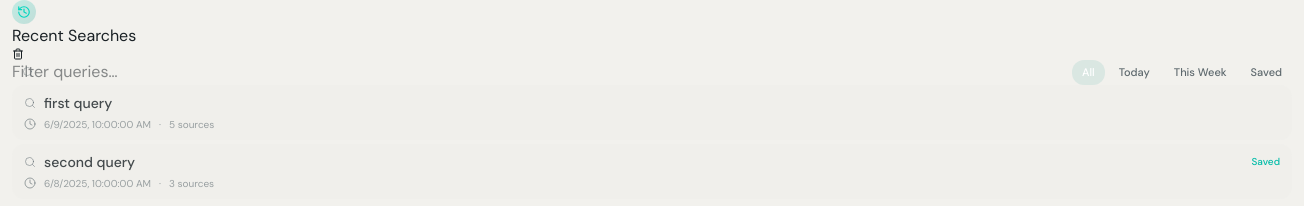
SearchHistory › filters items by search query
Expected: the text "first query" is shown, x1=44 y1=92 x2=112 y2=112
In the field with placeholder "Filter queries…": (106, 72) x1=12 y1=60 x2=200 y2=84, type "second"
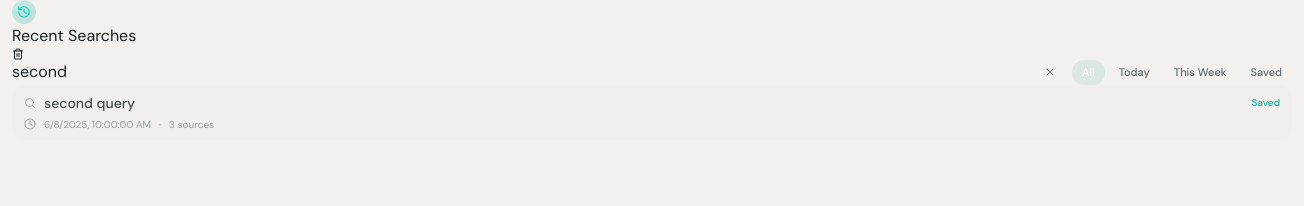
Expected: the text "second query" is shown, x1=44 y1=92 x2=135 y2=112
Result: the text "first query" is gone
